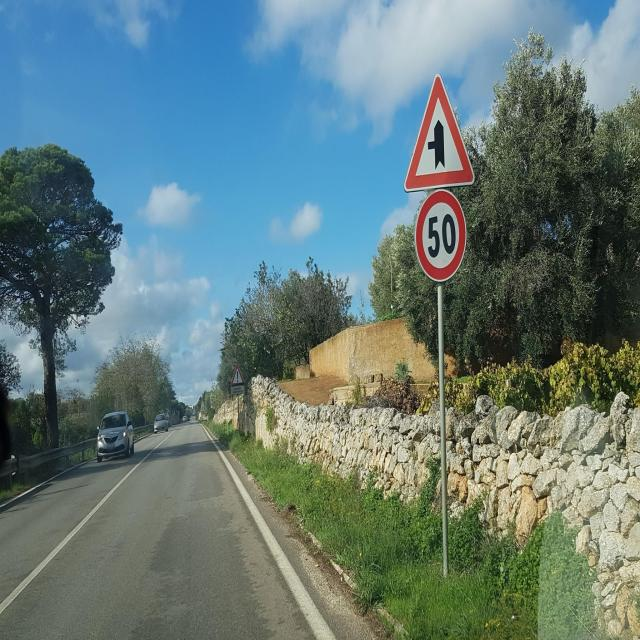car: (96, 409, 135, 461), (153, 412, 169, 433)
